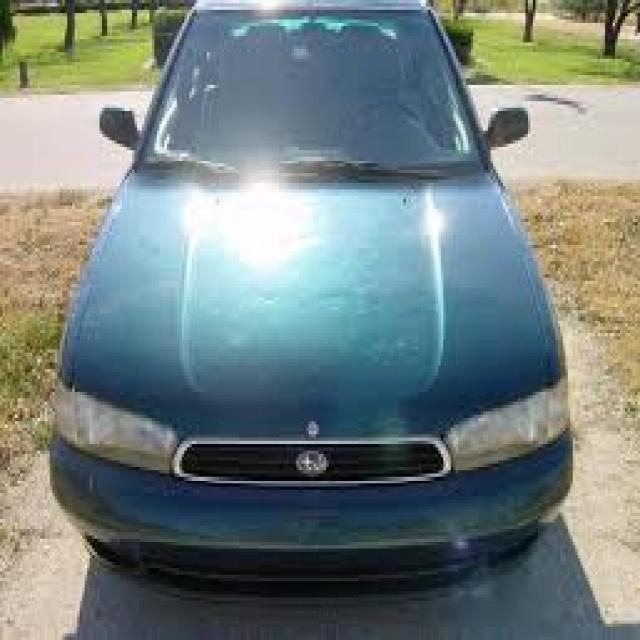minor: (191, 4, 498, 200)
